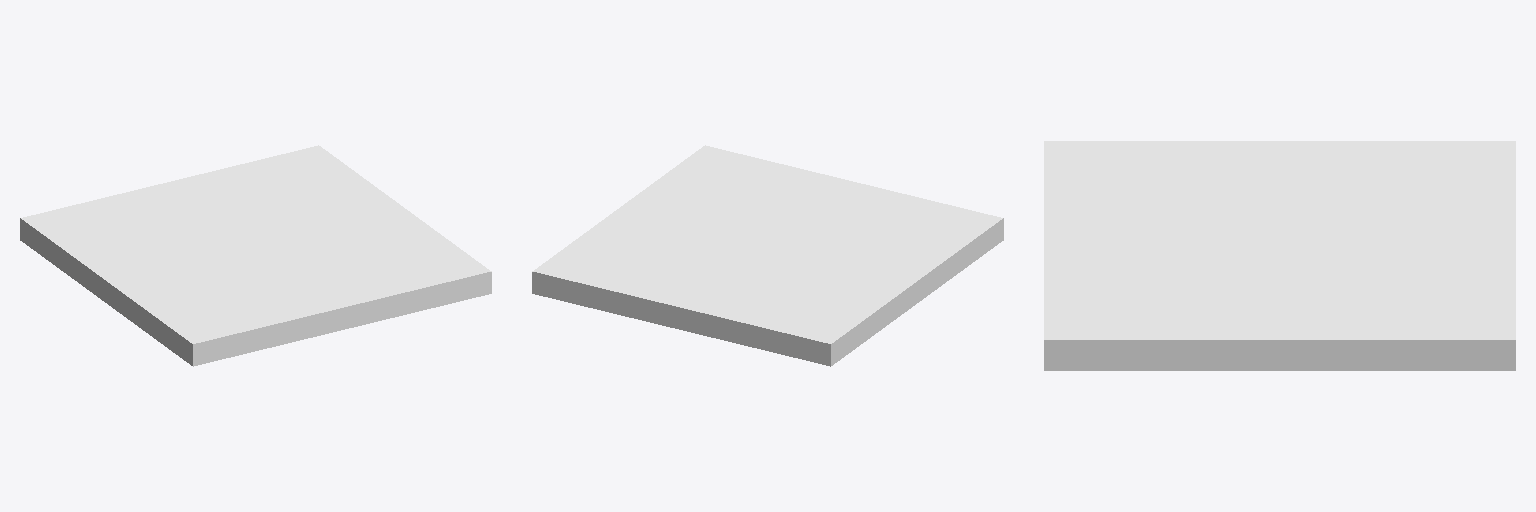
robot.urdf — mesh:
<?xml version="1.0" ?>
<robot name="mesh">
  <link name="baselink">
    <inertial>
      <origin rpy="0 0 0" xyz="0 0 0"/>
       <mass value=".0"/>
       <inertia ixx="0" ixy="0" ixz="0" iyy="0" iyz="0" izz="0"/>
    </inertial>
    <visual>
      <origin rpy="0 0 -1.5707963" xyz="0 0 0"/>
      <geometry>
      	<mesh filename="package://robots/meshes/visual/apriltag_id0_square.obj" scale="0.5 0.5 1"/>
      </geometry>
       <material name="white">
        <color rgba="1 1 1 1"/>
      </material>
    </visual>
    <collision concave="yes">
      <origin rpy="0 0 -1.5707963" xyz="0 0 0"/>
     <geometry>
	      <mesh filename="package://robots/meshes/visual/apriltag_id0_square.obj" scale="0.5 0.5 1"/>
      </geometry>
    </collision>
  </link>
</robot>
<!-- Physical size 0.135m x 0.135m -->

--- What the picture shows (computed from the rendered views, not written in the file) ---
3 views of the same robot in one strip: view 1: azimuth 30°, elevation 25°; view 2: azimuth 150°, elevation 25°; view 3: azimuth 270°, elevation 25° (orthographic).
Robot: mesh — 1 links, 0 joints (none); root link baselink; default pose: every joint at zero.
Visible links, largest first — view 1: baselink; view 2: baselink; view 3: baselink.
Link boxes in pixels (x1,y1,x2,y2): baselink: (20,145,491,366); baselink: (532,145,1003,366); baselink: (1044,141,1515,370).
Size in the robot's own frame: 0.14 by 0.14 by 0.01 metres.
1 mesh visuals loaded from 1 distinct referenced files (1 OBJ).
